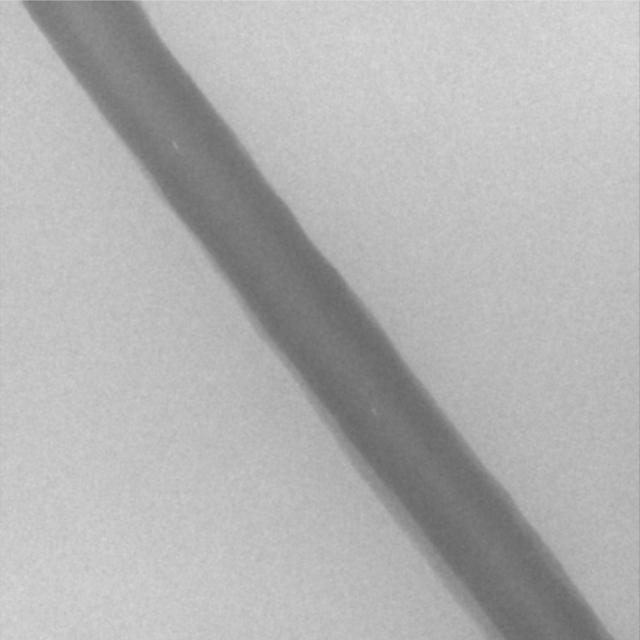air hole: (170, 139, 179, 151), (369, 405, 377, 417)
